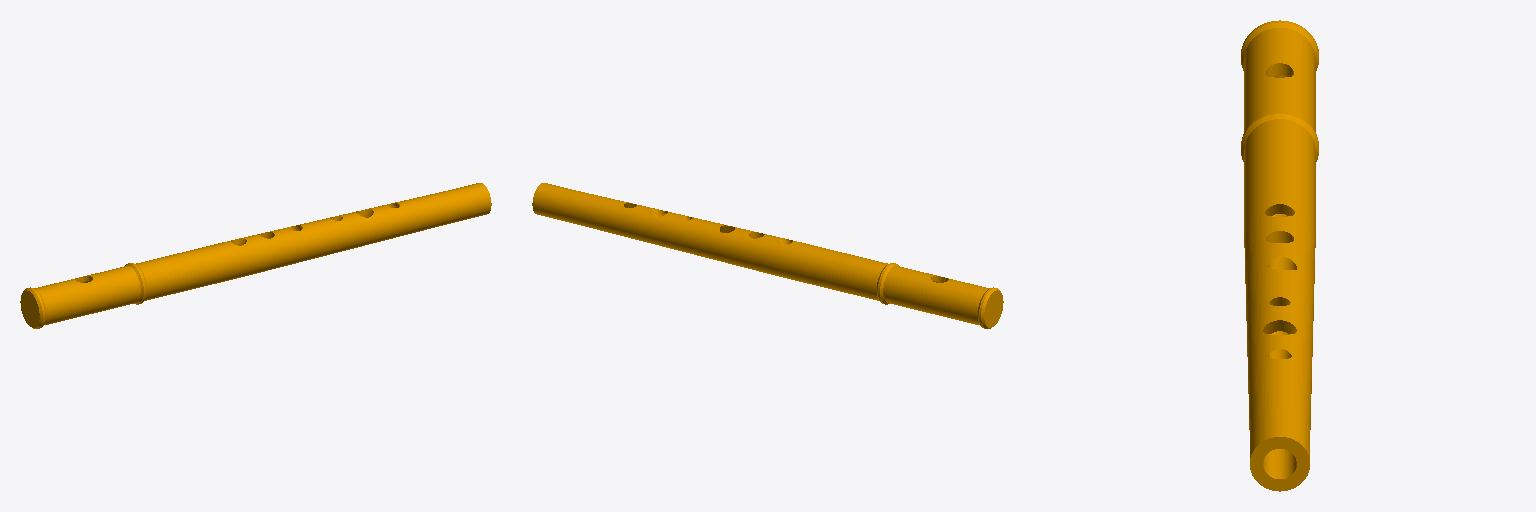
URDF robot description (object):
<?xml version="1.0"?>
<robot name="object">
  <link name="object">
    <visual>
      <origin xyz="0.0 0.0 0.0"/>
      <geometry>
        <mesh filename="flute.stl" scale="1.00 1.00 1.00"/>
      </geometry>
    </visual>
    <collision>
      <origin xyz="0.0 0.0 0.0"/>
      <geometry>
        <mesh filename="flute.stl" scale="1.00 1.00 1.00"/>
      </geometry>
    </collision>
  </link>
</robot>
    
                    

--- Facts derived from the render (not from the file) ---
3 views of the same robot in one strip: view 1: azimuth 30°, elevation 25°; view 2: azimuth 150°, elevation 25°; view 3: azimuth 270°, elevation 25° (orthographic).
Model object with 1 links and 0 joints (none), rooted at object, posed all joints at 0.
Visible links, largest first — view 1: object; view 2: object; view 3: object.
Link boxes in pixels (x1,y1,x2,y2): object: (20, 183, 491, 328); object: (532, 183, 1003, 328); object: (1241, 20, 1318, 491).
Bounding box of the posed robot: 0.21 × 0.017 × 0.017 m (x, y, z).
Meshes: 1 distinct files referenced, 1 mesh visuals loaded (1 binary STL).
